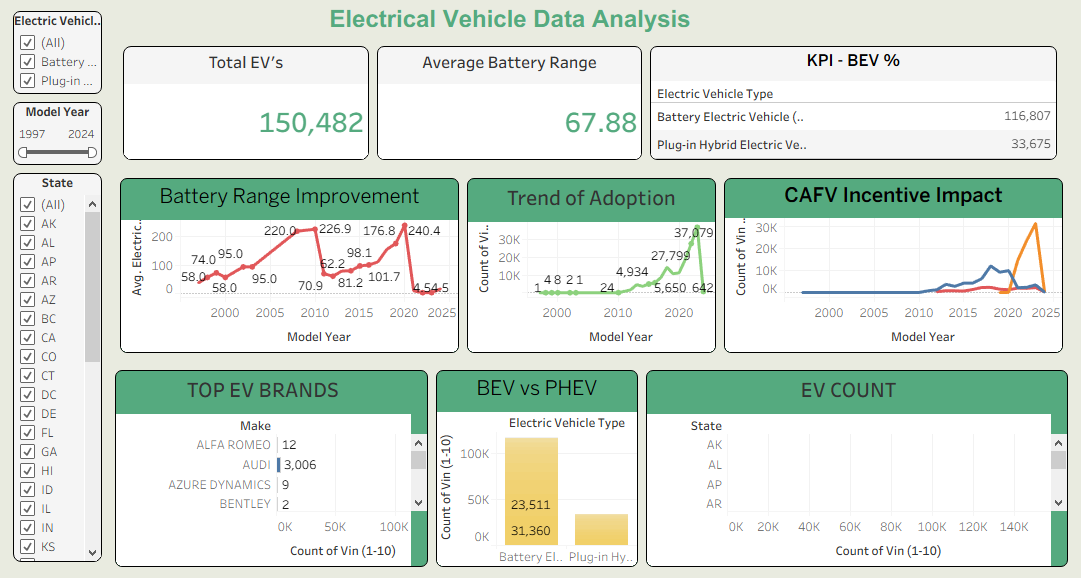

This screenshot's page, from the dashboard's own definition file:
{"tool":"tableau","page":{"name":"DASHBOARD","canvas":[1100,600],"ordinal":0},"visuals":[{"type":"text","box":[235,14,572,30]},{"type":"filter","title":"Comparison","param":"[federated.1yf01ud0mjbjn01cc9zxj1nq8nyf].[none:Electric Vehicle Type:nk]","box":[19.8,17,96.8,91]},{"type":"worksheet","title":"Total EV's","mark":"Automatic","box":[130,52,254,122]},{"type":"worksheet","title":"AVG B Range","mark":"Automatic","box":[384,52,273,122]},{"type":"worksheet","title":"Sheet 11","mark":"Automatic","rows":["Electric Vehicle Type"],"box":[657,52,415,122]},{"type":"filter","title":"Trends","param":"[federated.1yf01ud0mjbjn01cc9zxj1nq8nyf].[none:Model Year:qk]","box":[19.8,108,96.8,71]},{"type":"filter","title":"EV Count","param":"[federated.1yf01ud0mjbjn01cc9zxj1nq8nyf].[none:State:nk]","box":[19.8,179,96.8,397]},{"type":"worksheet","title":"EV Battery","mark":"Automatic","rows":["Electric Range"],"cols":["Model Year"],"box":[127,184,347,183]},{"type":"worksheet","title":"Trends","mark":"Automatic","rows":["VIN (1-10)"],"cols":["Model Year"],"box":[474,184,257,183]},{"type":"worksheet","title":"Incentive","mark":"Automatic","rows":["VIN (1-10)"],"cols":["Model Year"],"box":[731,184,347,183]},{"type":"worksheet","title":"TOP EV's","mark":"Automatic","rows":["Make"],"cols":["VIN (1-10)"],"box":[122.1,376,321,205]},{"type":"worksheet","title":"Comparison","mark":"Automatic","rows":["VIN (1-10)"],"cols":["Electric Vehicle Type"],"box":[443.1,376,210,205]},{"type":"worksheet","title":"EV Count","mark":"Automatic","rows":["State"],"cols":["VIN (1-10)"],"box":[653.1,376,430.4,205]}]}

Visuals, with their boxes in screenshot pixels (x1, y1, x2, y2), scaled from the page's 1100x600 canvas onto the 1082x578 screenshot:
text: <box>231,13,794,42</box>
"Comparison" filter: <box>19,16,115,104</box>
"Total EV's" worksheet: <box>128,50,378,168</box>
"AVG B Range" worksheet: <box>378,50,646,168</box>
"Sheet 11" worksheet: <box>646,50,1054,168</box>
"Trends" filter: <box>19,104,115,172</box>
"EV Count" filter: <box>19,172,115,555</box>
"EV Battery" worksheet: <box>125,177,466,354</box>
"Trends" worksheet: <box>466,177,719,354</box>
"Incentive" worksheet: <box>719,177,1060,354</box>
"TOP EV's" worksheet: <box>120,362,436,560</box>
"Comparison" worksheet: <box>436,362,642,560</box>
"EV Count" worksheet: <box>642,362,1066,560</box>
